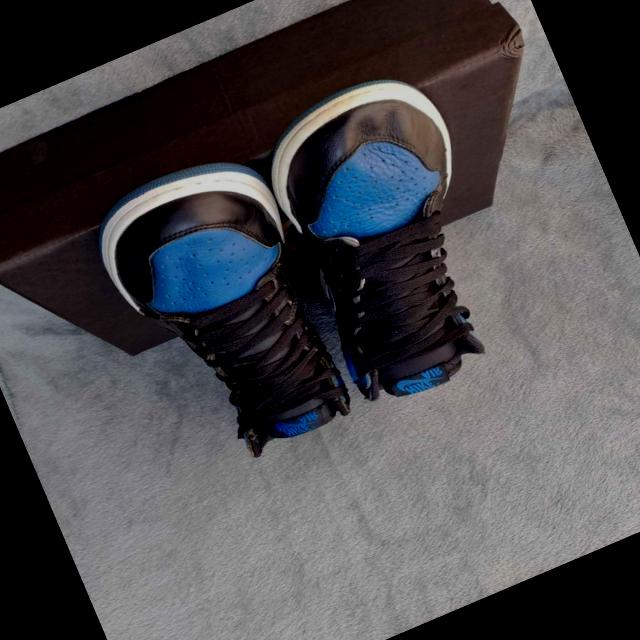nike_fake_jordan: (243, 54, 544, 418), (78, 136, 370, 494)
